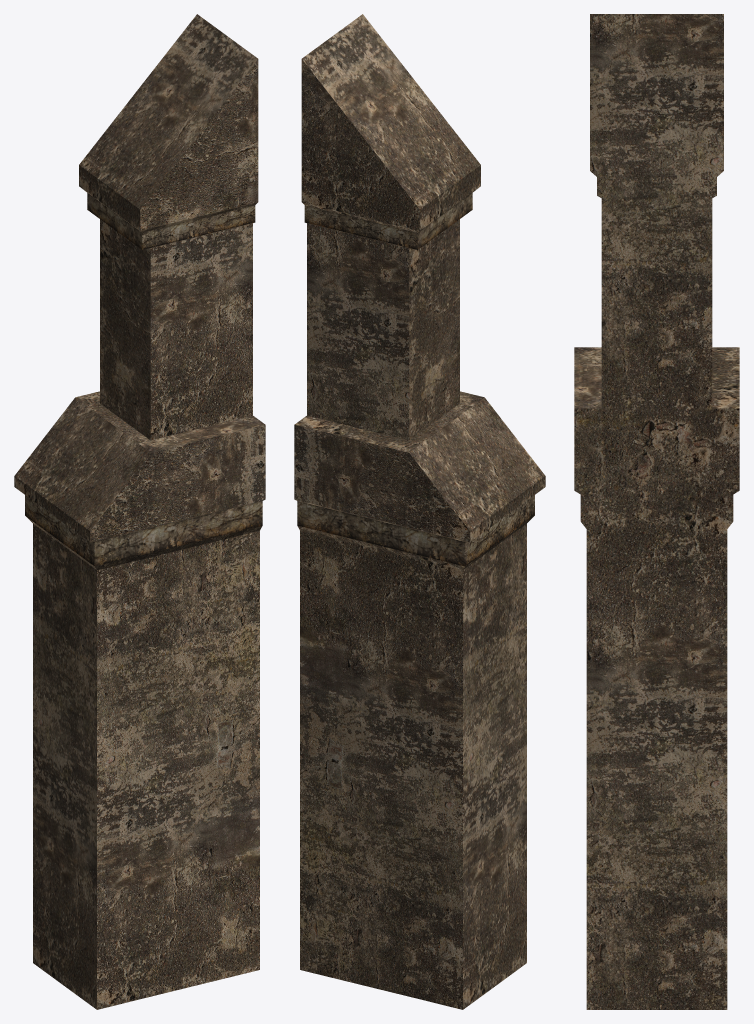
The model's file is materials_5_pillar_long_13.fbx.
The picture shows the model from 3 angles, left to right: view 1: azimuth 30°, elevation 25°; view 2: azimuth 150°, elevation 25°; view 3: azimuth 270°, elevation 25°; orthographic projection. The views are drawn at different scales.
Visible parts, largest first — view 1: materials_5_pillar_long_13; view 2: materials_5_pillar_long_13; view 3: materials_5_pillar_long_13.
Part boxes in pixels (x1,y1,x2,y2): materials_5_pillar_long_13: [14, 14, 265, 1009]; materials_5_pillar_long_13: [294, 14, 545, 1009]; materials_5_pillar_long_13: [574, 14, 739, 1009].
Bounding box in the file's own units: 164 × 815 × 123.
